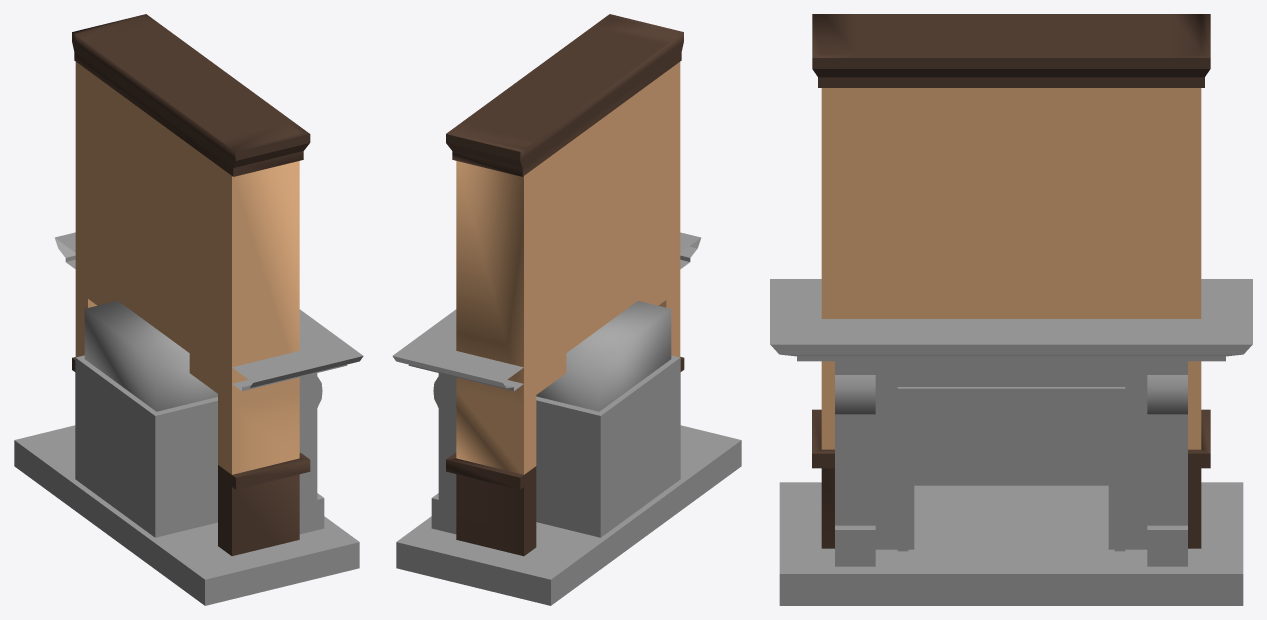
File: S_Fireplace.fbx
3 views of the same model, side by side, from view 1: azimuth 30°, elevation 25°; view 2: azimuth 150°, elevation 25°; view 3: azimuth 270°, elevation 25° (orthographic). The views are drawn at different scales.
Visible parts, largest first — view 1: S_Fireplace; view 2: S_Fireplace; view 3: S_Fireplace.
Boxes of the visible parts, bbox=[...] form: S_Fireplace: bbox=[14, 14, 363, 605]; S_Fireplace: bbox=[392, 14, 741, 605]; S_Fireplace: bbox=[770, 14, 1252, 605].
Size of the model in its own units: 114 by 310 by 254.
